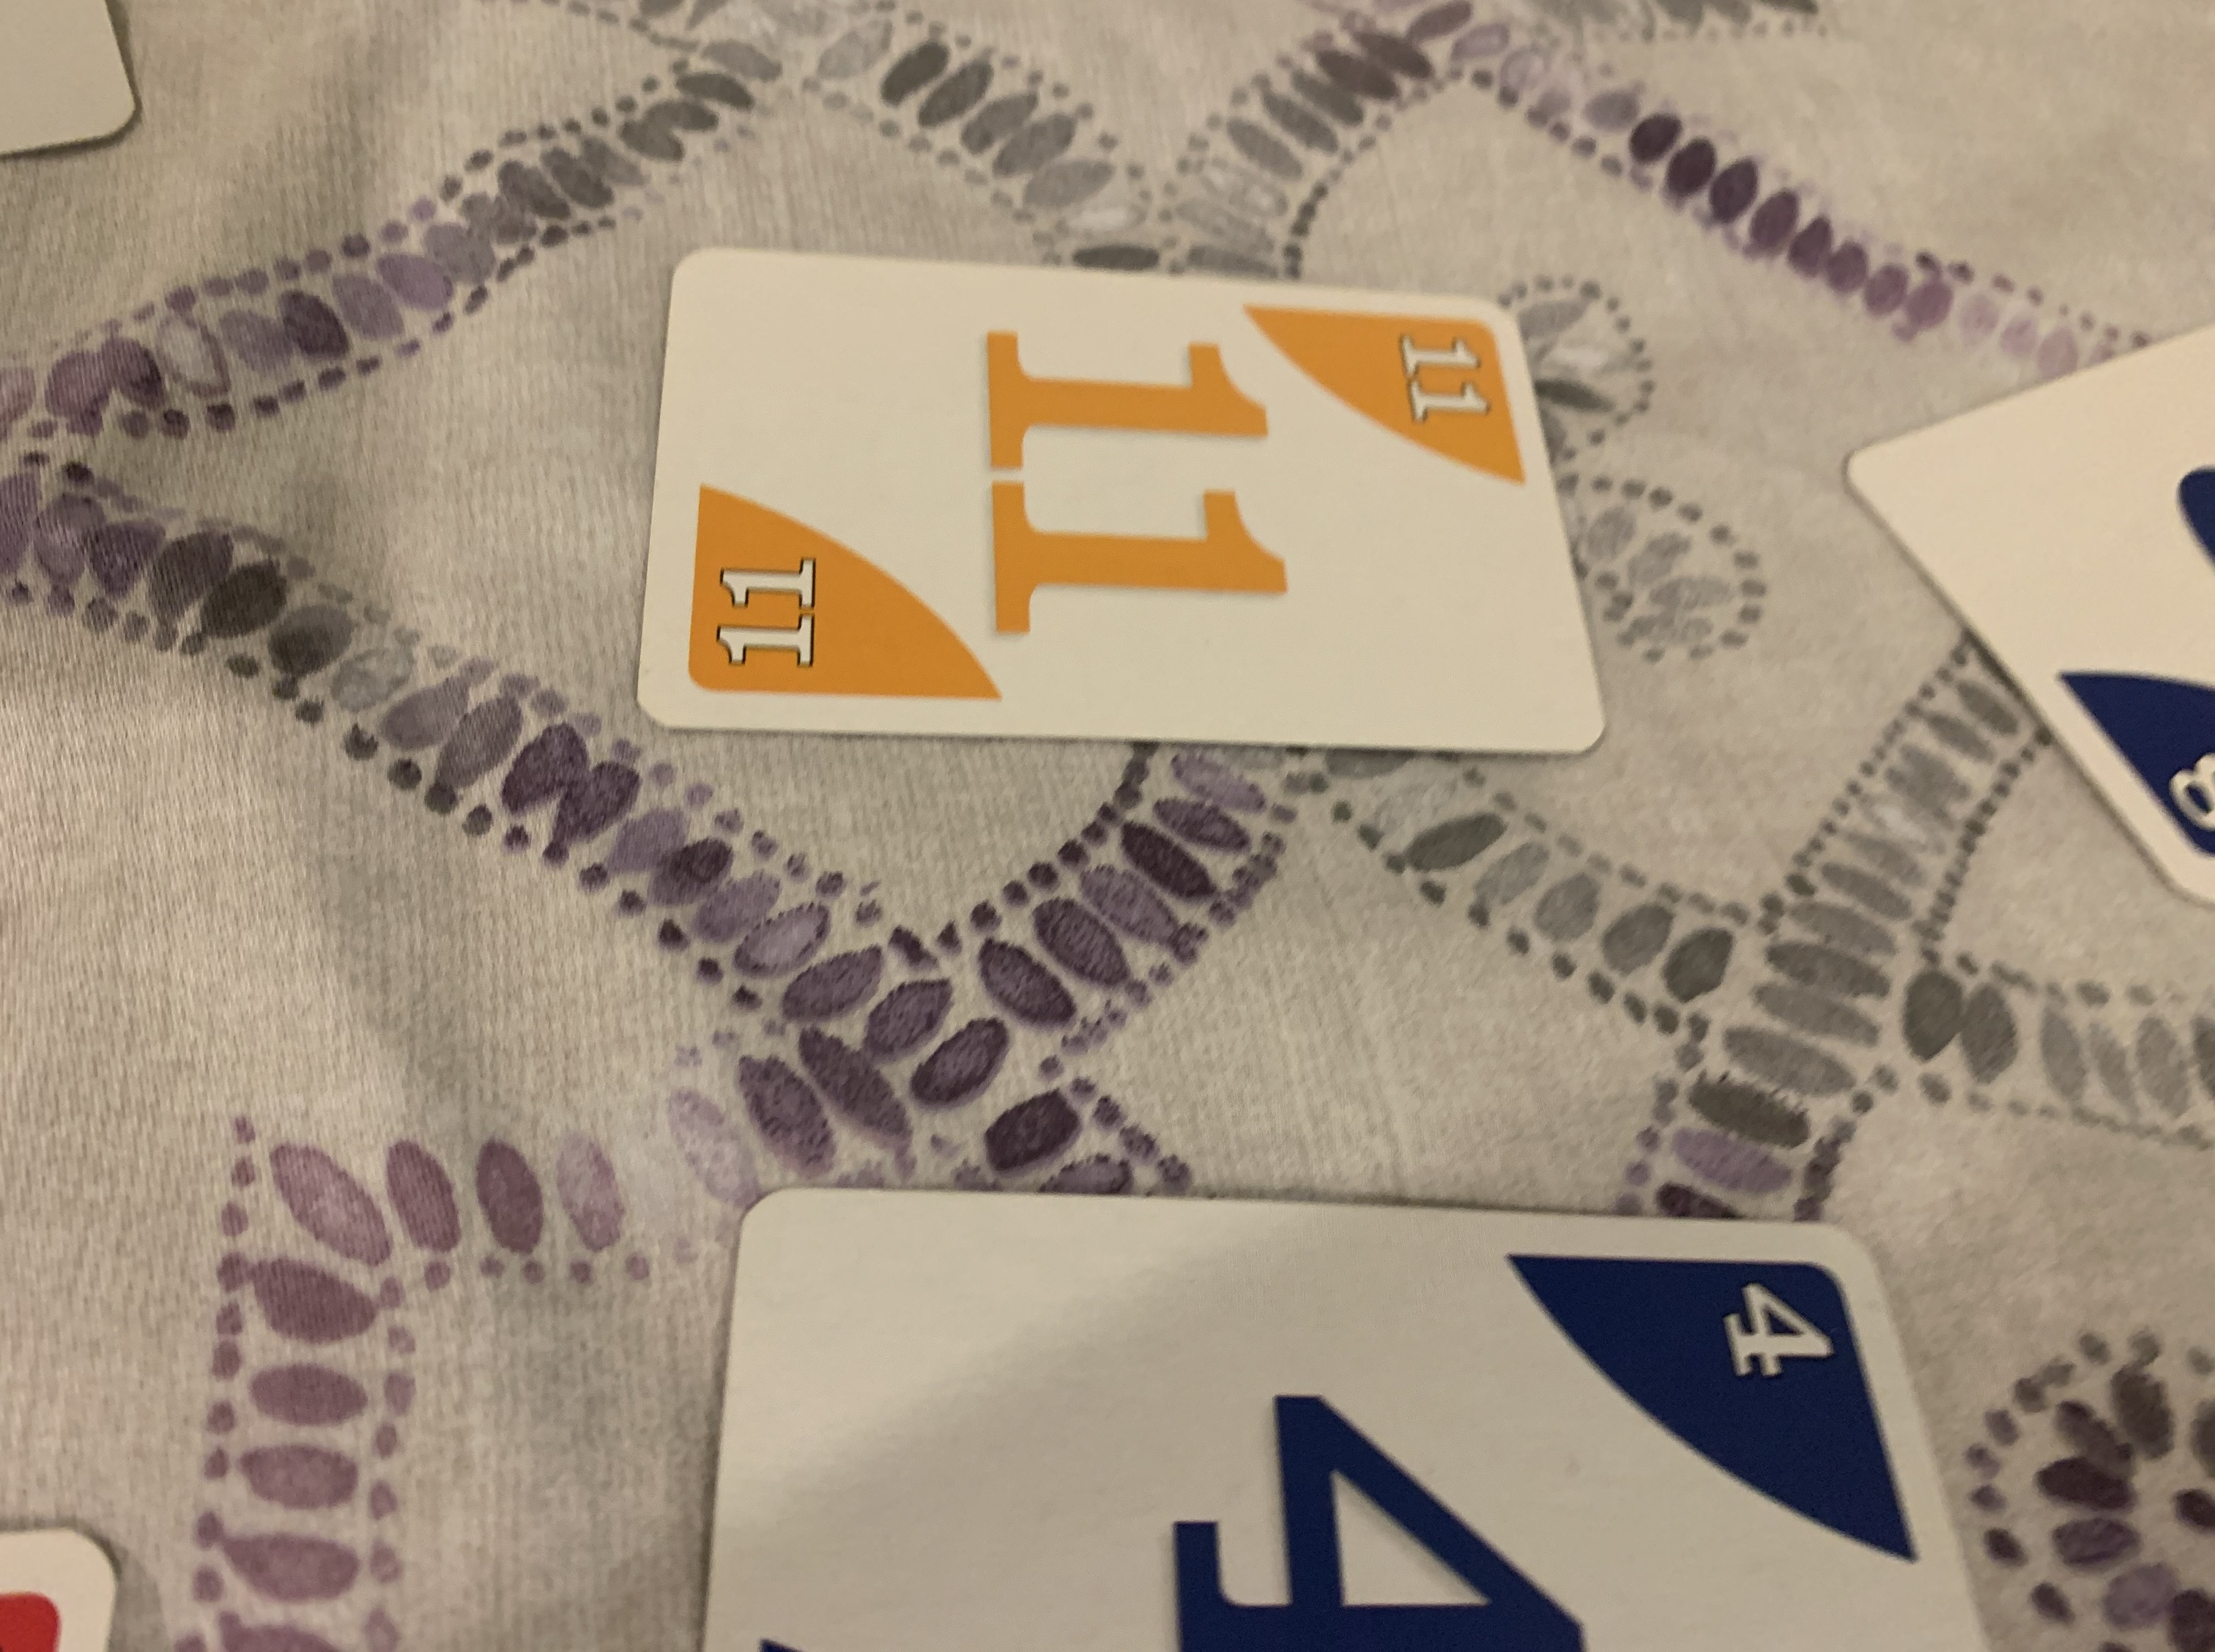eleven: (632, 234, 1607, 762)
four: (686, 1178, 2033, 1652)
